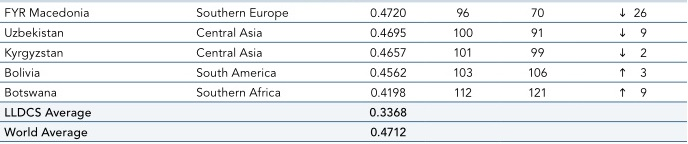column: (195, 1, 289, 144), (4, 1, 93, 144), (369, 1, 407, 144), (452, 1, 474, 144), (527, 1, 548, 144), (633, 1, 648, 144), (619, 1, 626, 144)
row: (1, 46, 688, 59), (1, 86, 688, 99), (1, 106, 688, 119), (1, 6, 688, 18), (1, 26, 688, 38), (1, 66, 688, 78), (1, 125, 688, 136)
